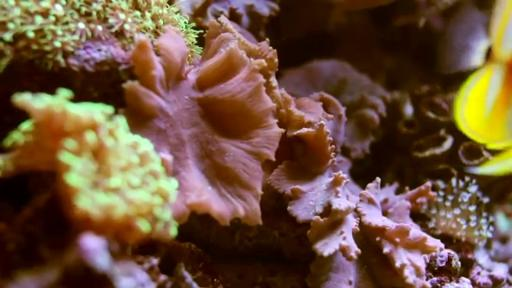Fish: (454, 0, 511, 175)
